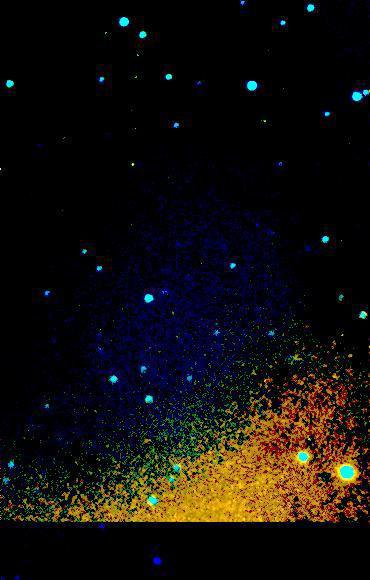star: (116, 143, 146, 173)
